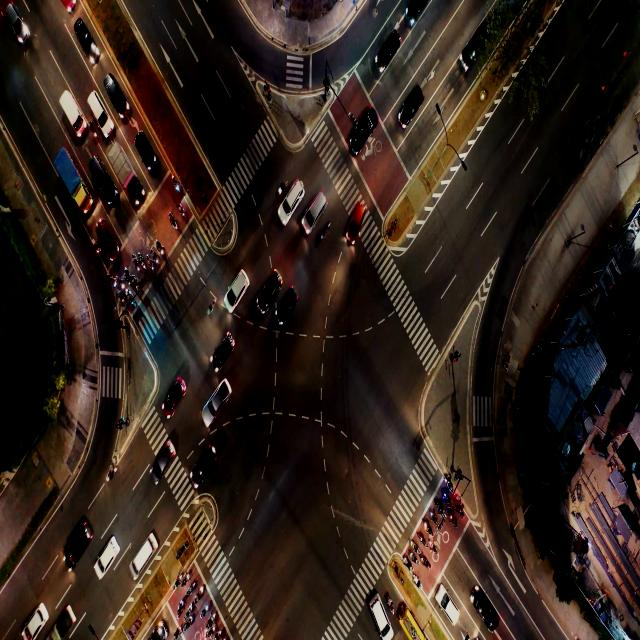bus: (405, 621, 417, 638)
car: (136, 540, 152, 566), (95, 547, 114, 566), (197, 457, 212, 477), (211, 387, 223, 408), (160, 448, 172, 468), (411, 2, 425, 19), (408, 94, 419, 114), (475, 27, 484, 51), (111, 83, 121, 103), (142, 137, 150, 160), (172, 381, 185, 395), (221, 336, 231, 354), (482, 600, 493, 616), (236, 274, 246, 290), (29, 614, 42, 626), (93, 170, 102, 187), (77, 533, 87, 548), (267, 280, 275, 298), (315, 195, 323, 212), (103, 225, 110, 244), (355, 210, 362, 227), (386, 40, 394, 54), (448, 600, 455, 616), (286, 295, 292, 313), (376, 602, 382, 618), (293, 188, 299, 202), (364, 114, 369, 130), (82, 30, 87, 46), (94, 102, 100, 114)
motorcycle: (319, 222, 330, 239), (276, 178, 286, 194), (107, 465, 117, 479), (208, 299, 215, 314), (169, 215, 176, 229), (390, 598, 396, 610), (178, 598, 184, 608), (135, 278, 140, 289), (175, 180, 180, 190), (142, 260, 147, 270), (127, 274, 132, 284), (204, 603, 209, 613), (219, 624, 224, 634), (449, 517, 455, 525), (199, 584, 203, 596), (419, 535, 424, 544), (416, 576, 421, 585), (188, 604, 193, 613), (426, 524, 432, 531), (406, 562, 412, 569), (458, 504, 462, 514), (445, 493, 449, 503), (431, 542, 435, 552), (411, 541, 416, 549), (423, 555, 427, 565), (155, 256, 160, 264), (176, 576, 180, 586), (93, 126, 97, 136), (95, 242, 98, 254), (149, 262, 153, 271), (184, 574, 190, 580), (180, 209, 185, 216), (160, 248, 165, 255), (210, 627, 215, 634), (413, 554, 417, 562), (192, 581, 196, 589), (212, 613, 216, 621), (432, 513, 436, 520), (120, 295, 124, 302), (439, 506, 442, 515), (137, 264, 140, 273), (126, 292, 130, 298), (121, 280, 124, 288), (188, 616, 192, 622), (112, 281, 116, 286), (176, 629, 180, 633), (448, 480, 450, 487)
truck: (62, 164, 76, 187), (116, 154, 128, 180), (61, 607, 73, 628), (69, 108, 79, 122)
